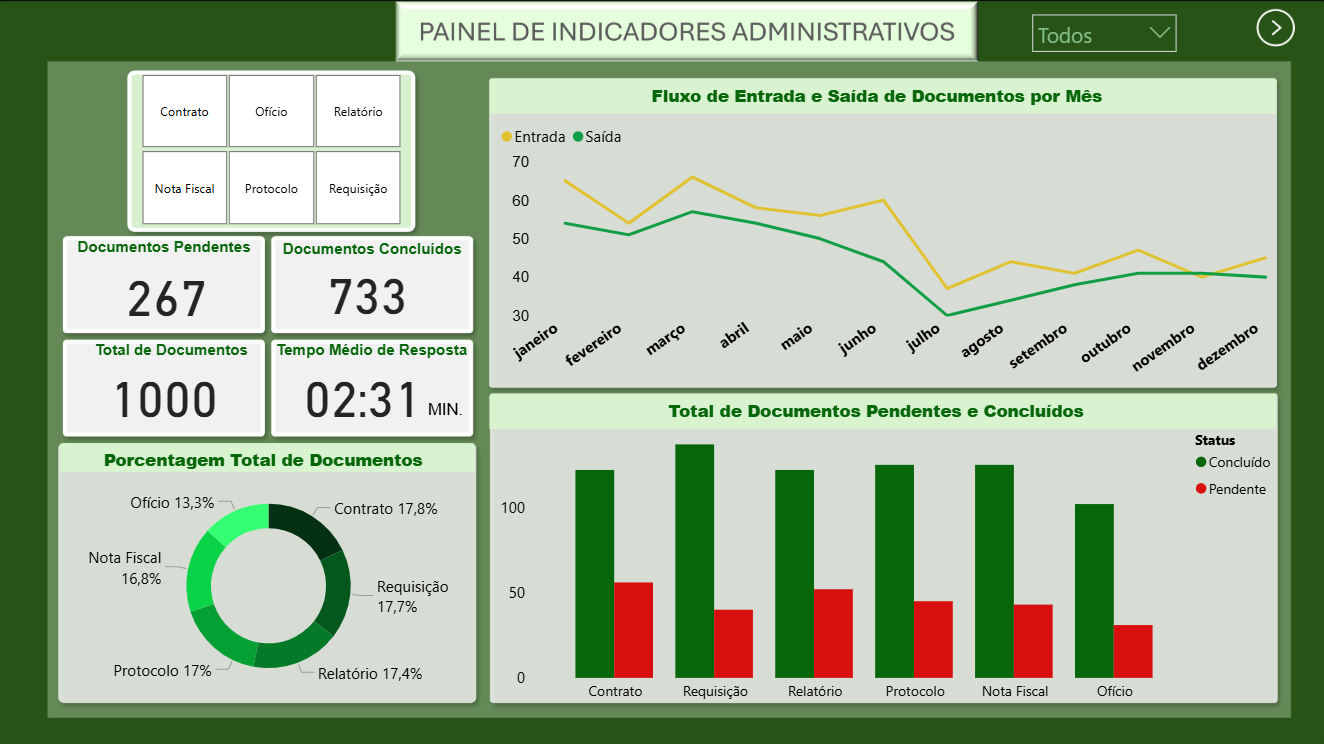

What the dashboard file says about the page in this screenshot:
{"tool":"powerbi","page":{"name":"Visão Geral","canvas":[1280,720],"ordinal":0},"visuals":[{"type":"card","fields":{"Values":["CountNonNull(Dados_ADM.Tipo_Documento)"]},"box":[75.6,346.4,166.8,68.4],"z":0},{"type":"card","fields":{"Values":["Dados_ADM.Documentos Pendentes"]},"box":[67,252.4,188.2,59.9],"z":1000},{"type":"card","fields":{"Values":["Dados_ADM.Tempo Médio Formatado"]},"box":[268,349.3,166.8,59.9],"z":2000},{"type":"slicer","fields":{"Values":["Dados_ADM.Tipo_Documento"]},"box":[112.6,65.6,299.4,158.3],"z":3000},{"type":"donutChart","fields":{"Category":["Dados_ADM.Tipo_Documento"],"Y":["CountNonNull(Dados_ADM.Tipo_Documento)"]},"box":[57.6,456.9,404.8,216.8],"z":4000},{"type":"card","fields":{"Values":["Dados_ADM.Documentos Concluídos"]},"box":[268,246.6,175.4,68.4],"z":5000},{"type":"lineChart","fields":{"Y":["Count(Dados_ADM.Data_Entrada)","Count(Dados_ADM.Data_Saida)"],"Category":["Dados_ADM.Data_Entrada.Variation.Hierarquia de datas.Mês"]},"box":[479,111,773.3,270.2],"z":6000},{"type":"textbox","box":[583.1,75.6,528.9,35.6],"z":7000},{"type":"textbox","box":[76.8,426.8,355.4,35.7],"z":8000},{"type":"textbox","box":[52.8,223.8,212.4,35.6],"z":9000},{"type":"textbox","box":[253.8,225.3,213.9,35.6],"z":10000},{"type":"textbox","box":[259.4,323.3,205.1,32.6],"z":11000},{"type":"textbox","box":[65.6,323.6,202.5,32.8],"z":12000},{"type":"textbox","box":[409.2,380.7,55.6,35.6],"z":13000},{"type":"actionButton","box":[1210.1,3.6,44.6,44.6],"z":14000},{"type":"clusteredColumnChart","fields":{"Series":["Dados_ADM.Status_Documento"],"Y":["CountNonNull(Dados_ADM.Tipo_Documento)"],"Category":["Dados_ADM.Tipo_Documento"]},"box":[479,410.2,762.5,276.3],"z":15000},{"type":"textbox","box":[581.5,380,529.6,35],"z":16000}]}

Visuals, with their boxes in screenshot pixels (x1, y1, x2, y2), scaled from the page's 1280x720 canvas onto the 1324x744 screenshot:
card - CountNonNull(Dados_ADM.Tipo_Documento): box(78, 358, 251, 429)
card - Dados_ADM.Documentos Pendentes: box(69, 261, 264, 323)
card - Dados_ADM.Tempo Médio Formatado: box(277, 361, 450, 423)
slicer - Dados_ADM.Tipo_Documento: box(116, 68, 426, 231)
donutChart - Dados_ADM.Tipo_Documento x CountNonNull(Dados_ADM.Tipo_Documento): box(60, 472, 478, 696)
card - Dados_ADM.Documentos Concluídos: box(277, 255, 459, 326)
lineChart - Count(Dados_ADM.Data_Entrada) x Count(Dados_ADM.Data_Saida): box(495, 115, 1295, 394)
textbox: box(603, 78, 1150, 115)
textbox: box(79, 441, 447, 478)
textbox: box(55, 231, 274, 268)
textbox: box(263, 233, 484, 270)
textbox: box(268, 334, 480, 368)
textbox: box(68, 334, 277, 368)
textbox: box(423, 393, 481, 430)
actionButton: box(1252, 4, 1298, 50)
clusteredColumnChart - Dados_ADM.Status_Documento x CountNonNull(Dados_ADM.Tipo_Documento): box(495, 424, 1284, 709)
textbox: box(601, 393, 1149, 429)
